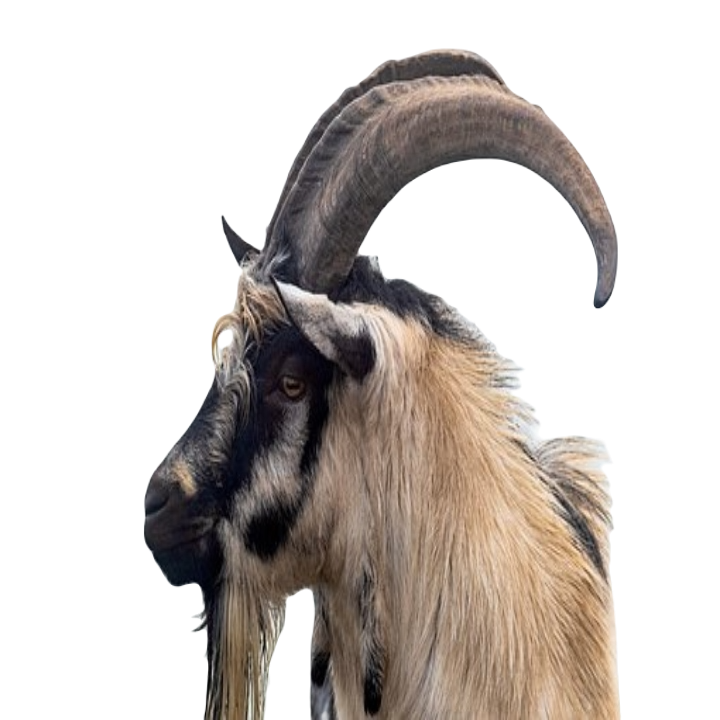Goat: (140, 49, 622, 719)
